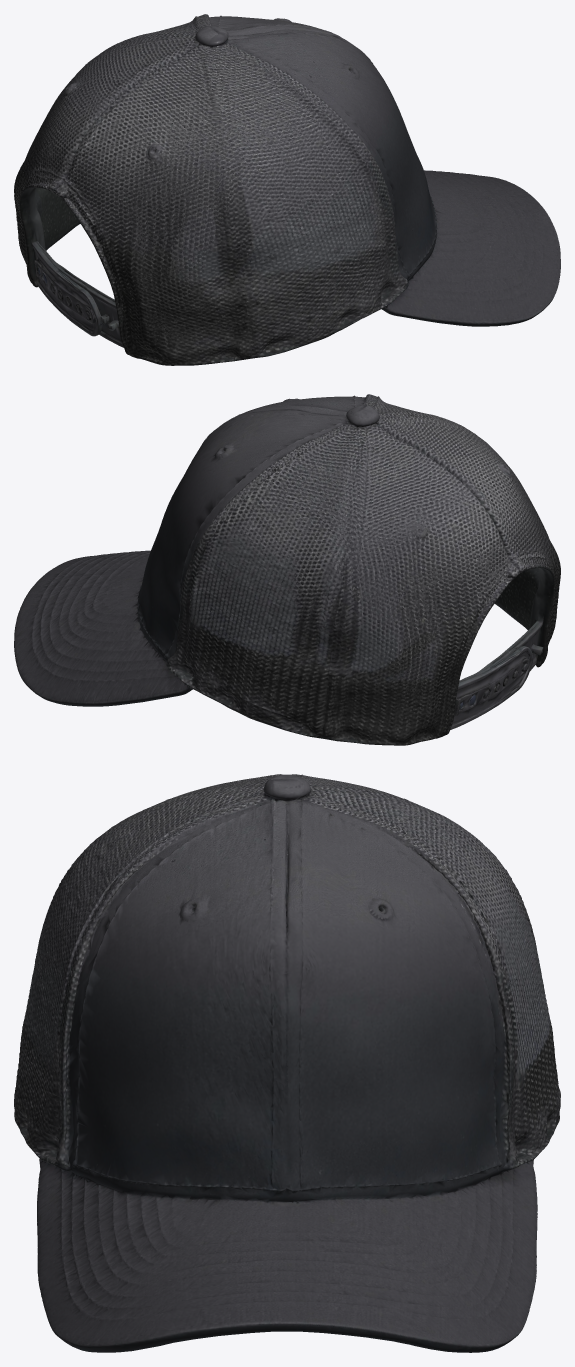
File: GORRA-DE-MALLA.glb
The picture shows the model from 3 angles, top to bottom: view 1: azimuth 30°, elevation 25°; view 2: azimuth 150°, elevation 25°; view 3: azimuth 270°, elevation 25°; orthographic projection. The views are drawn at different scales.
Visible parts, largest first — view 1: tripo_node_9b52879b-0624-4c1e-a036-0041228b4ab4; view 2: tripo_node_9b52879b-0624-4c1e-a036-0041228b4ab4; view 3: tripo_node_9b52879b-0624-4c1e-a036-0041228b4ab4.
Boxes of the visible parts, box(x1,y1,x2,y2) form: tripo_node_9b52879b-0624-4c1e-a036-0041228b4ab4: box(14, 14, 560, 365); tripo_node_9b52879b-0624-4c1e-a036-0041228b4ab4: box(14, 394, 560, 745); tripo_node_9b52879b-0624-4c1e-a036-0041228b4ab4: box(14, 774, 560, 1352).
Size of the model in its own units: 0.9792 by 0.5706 by 0.7075.
Materials: 1 (1 with a texture image).
